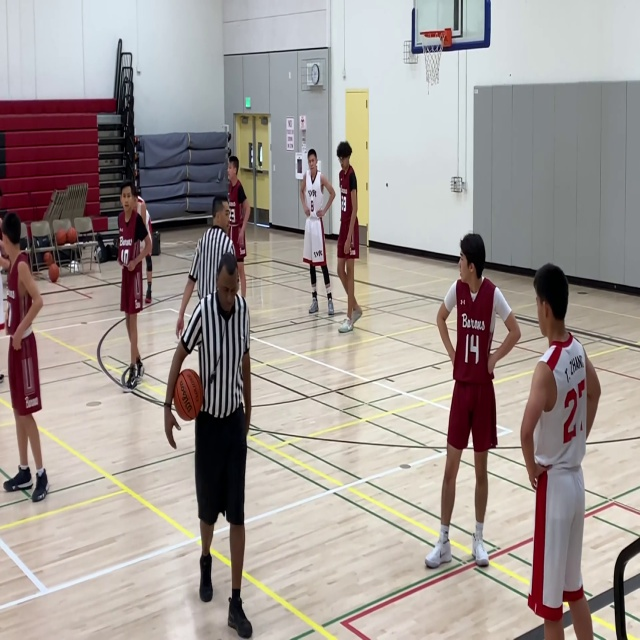Basketball: (173, 369, 203, 421), (48, 263, 59, 282), (66, 227, 77, 244), (55, 229, 66, 245), (43, 252, 53, 265)
